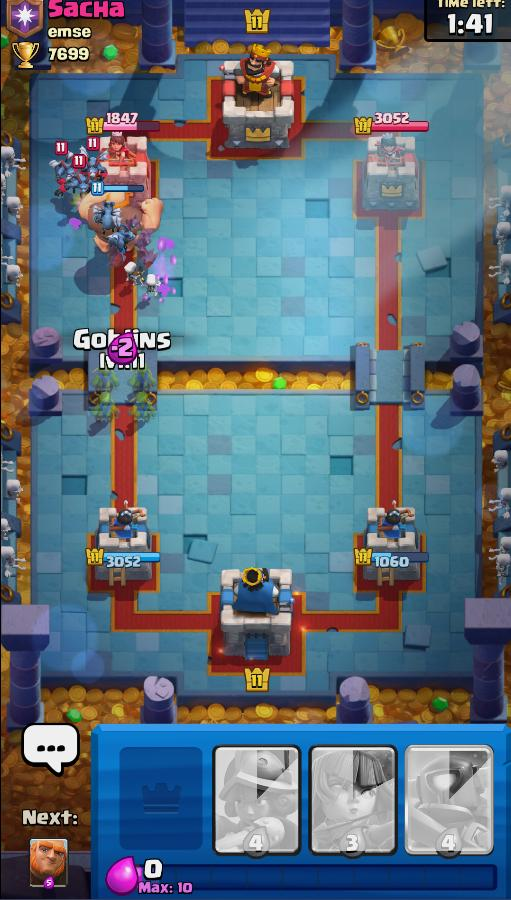bat: (129, 229, 153, 256), (123, 211, 142, 233)
gargouille: (55, 172, 101, 196), (77, 149, 110, 181), (107, 224, 139, 254), (93, 201, 123, 232), (49, 153, 76, 183)
geant: (75, 185, 162, 256)
gobelin: (128, 390, 160, 424), (94, 389, 119, 425), (94, 363, 122, 392), (128, 363, 158, 390)
squelette: (122, 260, 144, 288), (144, 273, 161, 296)
